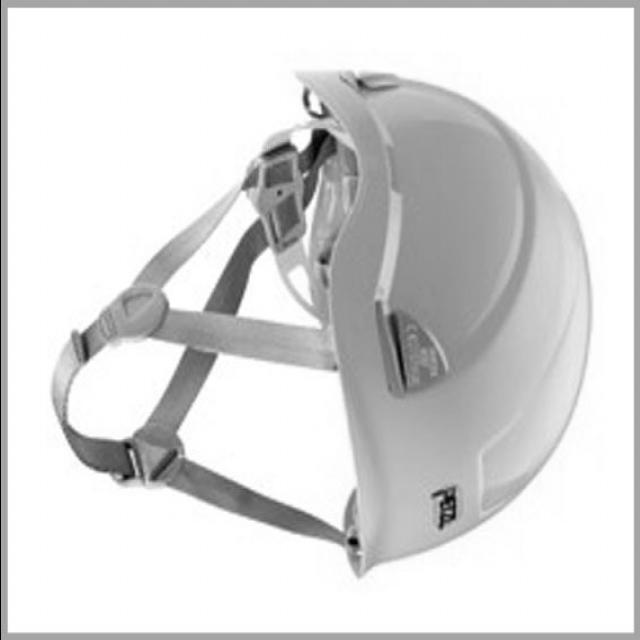safety_helmet: (293, 69, 592, 577)
